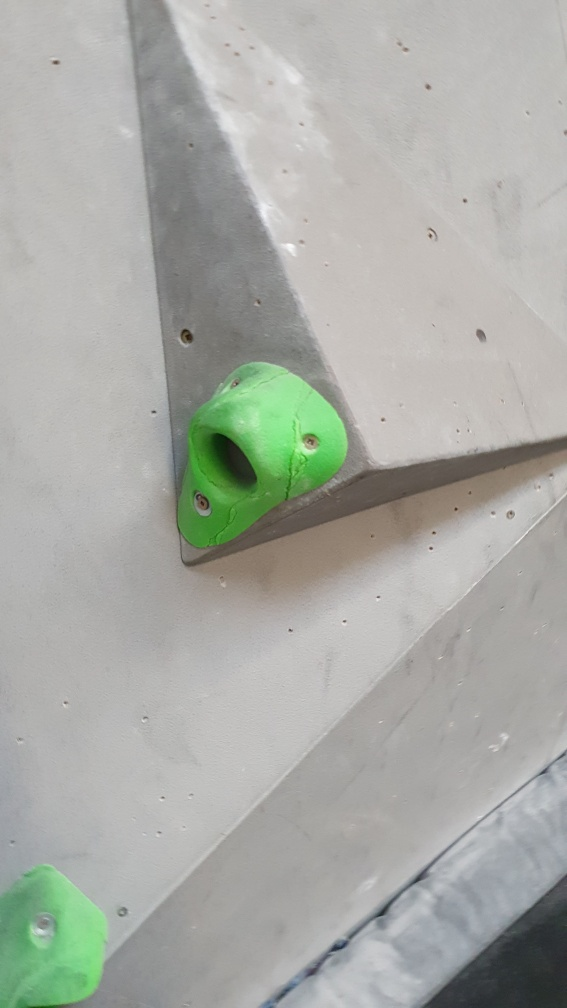Pocket: (171, 355, 349, 561)
